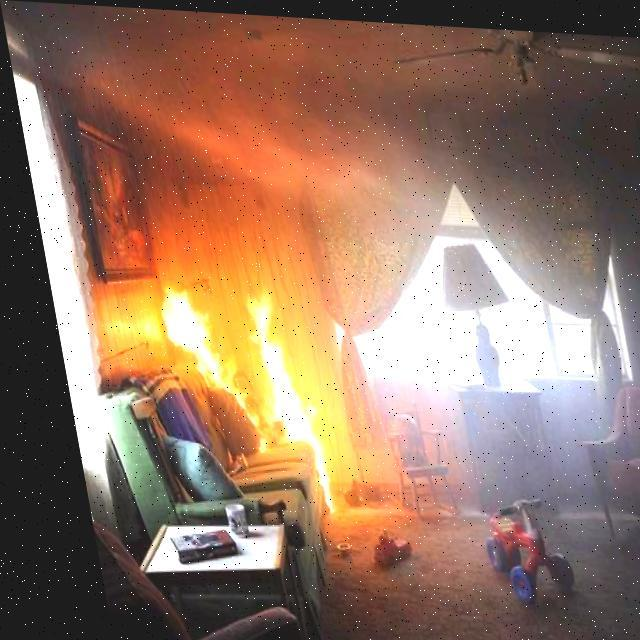Fire: (116, 249, 339, 513)
